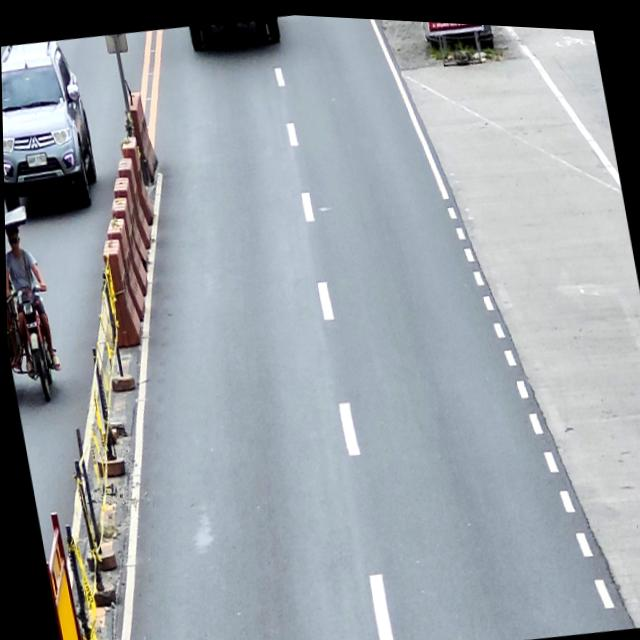Car: (1, 35, 103, 220)
License-Plate: (25, 151, 47, 168)
Tricycle: (4, 204, 61, 404)
